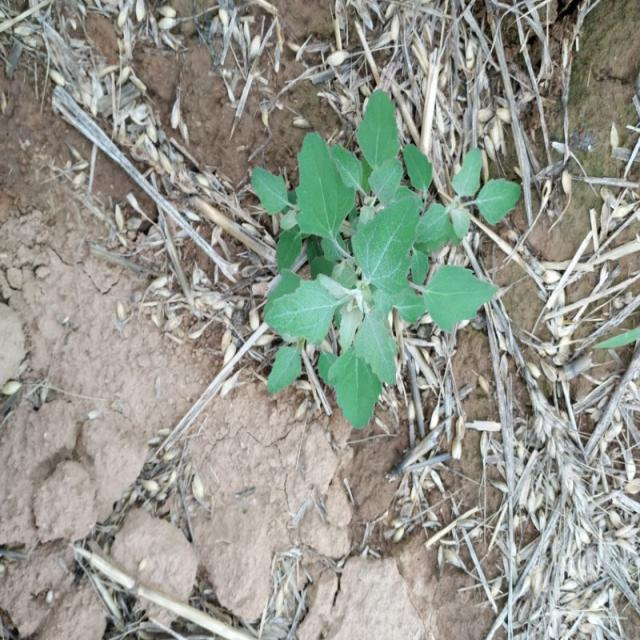goosefoots: (203, 114, 507, 411)
